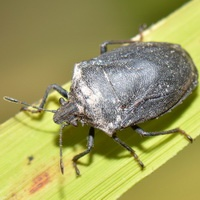insect: (0, 112, 188, 199), (142, 85, 199, 137)
